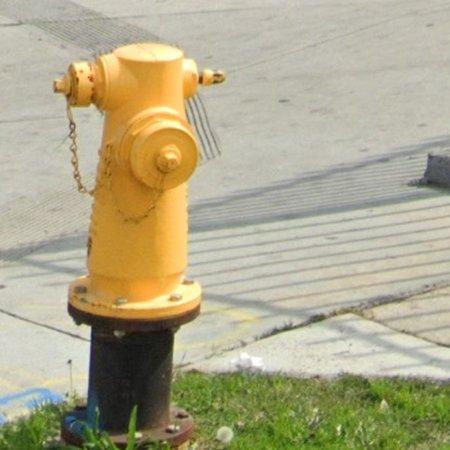a fire hydrant: (54, 43, 225, 450)
